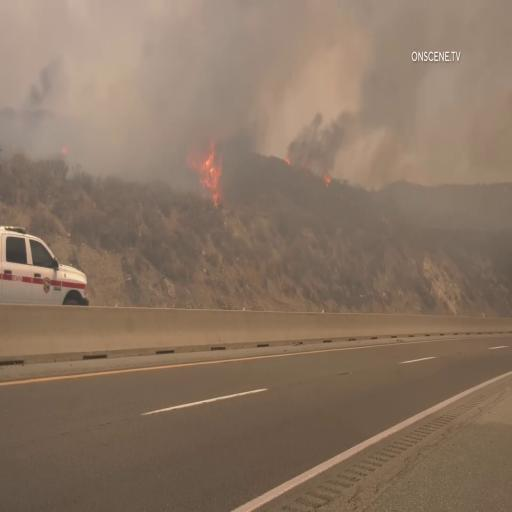fire: (194, 126, 230, 205)
